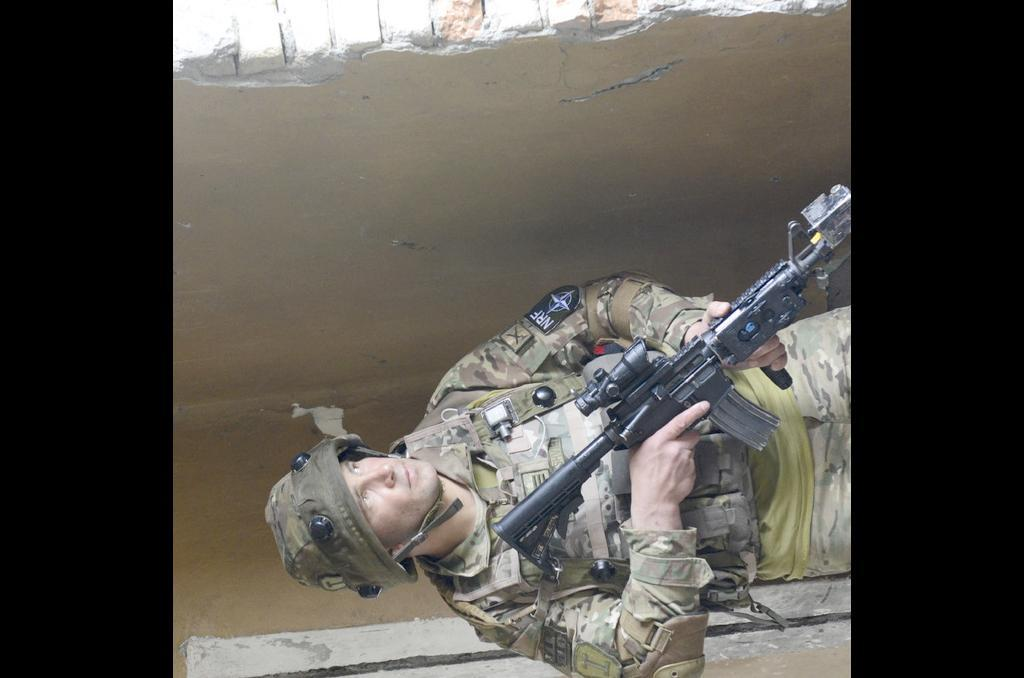gun: (487, 180, 851, 564)
